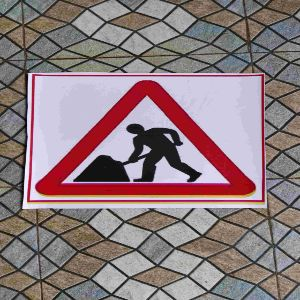men at work: (30, 71, 268, 201)
